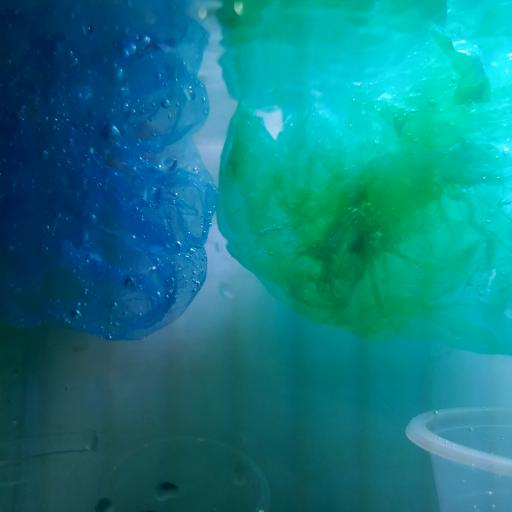plastic_bag: (217, 0, 512, 341), (1, 0, 216, 343)
plastic_cup: (100, 436, 271, 512), (404, 405, 512, 512)
